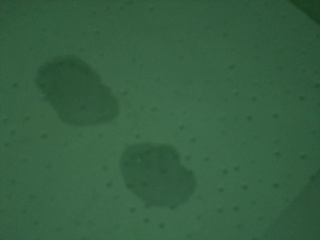Water_detected: (48, 69, 109, 116), (127, 151, 185, 193)
